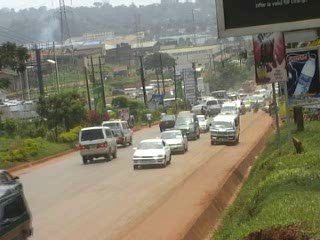Car: (0, 188, 40, 239), (130, 137, 172, 171), (0, 166, 27, 202), (157, 128, 189, 158), (172, 110, 201, 141), (157, 111, 179, 132), (196, 112, 210, 135), (234, 96, 246, 117)
